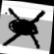not correct: (0, 4, 49, 52)
